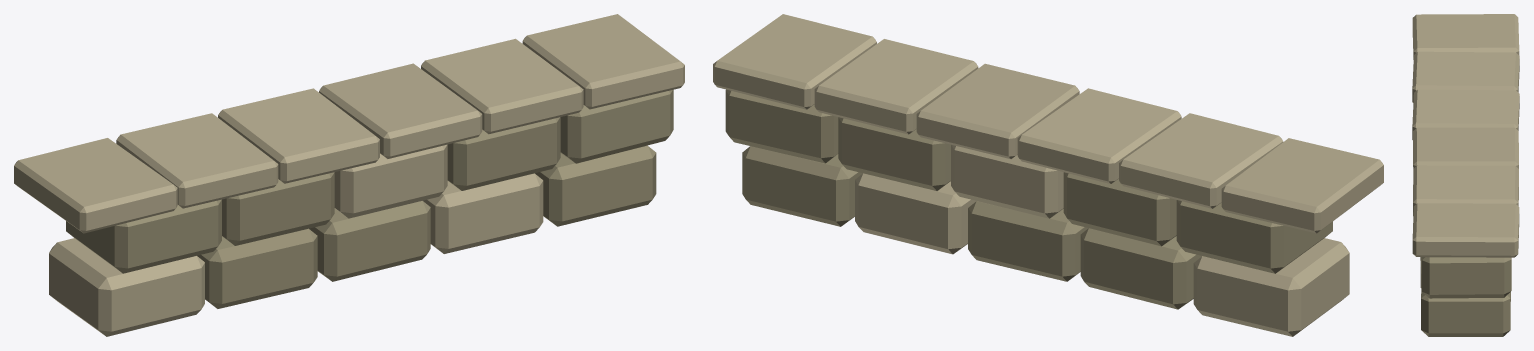
File: meadow_wall.glb
3 views of the same model, side by side, from view 1: azimuth 30°, elevation 25°; view 2: azimuth 150°, elevation 25°; view 3: azimuth 270°, elevation 25° (orthographic). The views are drawn at different scales.
Visible parts, largest first — view 1: meadow_wall_body; view 2: meadow_wall_body; view 3: meadow_wall_body.
Part boxes in pixels (<box>): meadow_wall_body: <box>14,14,684,336</box>; meadow_wall_body: <box>713,14,1383,336</box>; meadow_wall_body: <box>1412,14,1519,336</box>.
Size of the model in its own units: 4.31 by 0.97 by 0.8624.
